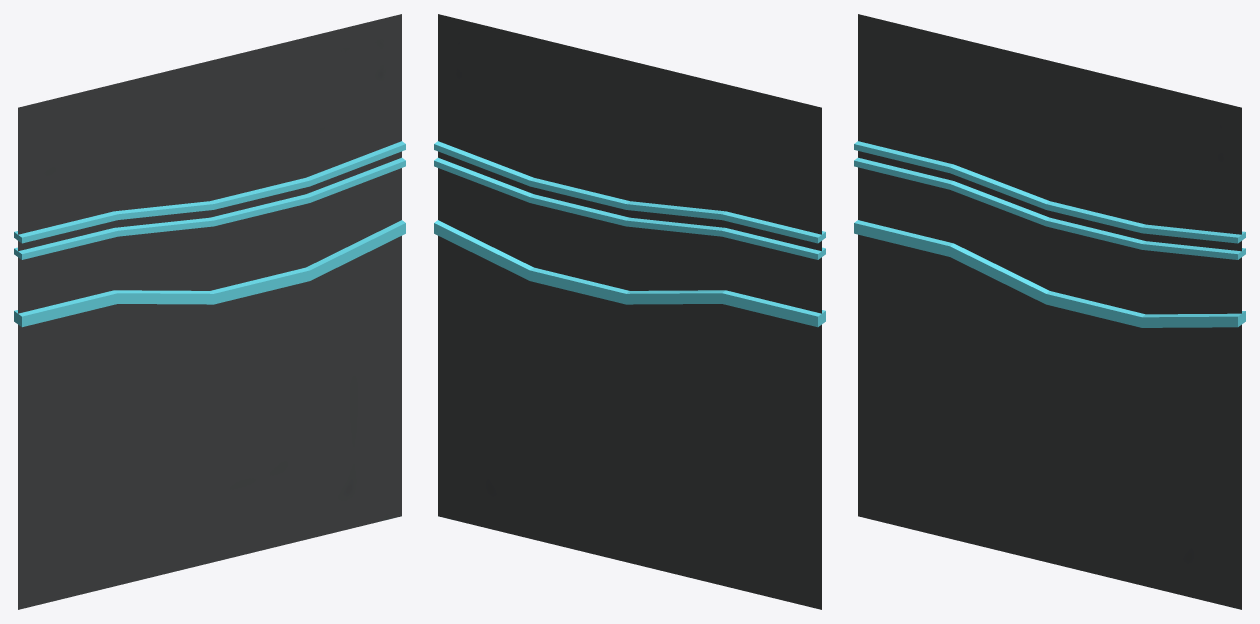
The model's file is LabGameWall.fbx.
The picture shows the model from 3 angles, left to right: view 1: azimuth 30°, elevation 25°; view 2: azimuth 150°, elevation 25°; view 3: azimuth 330°, elevation 25°; orthographic projection.
Visible parts, largest first — view 1: Plane; view 2: Plane; view 3: Plane.
Boxes of the visible parts, bbox=[...] form: Plane: bbox=[14, 14, 405, 609]; Plane: bbox=[434, 14, 825, 609]; Plane: bbox=[854, 14, 1245, 609].
Bounding box in the file's own units: 800 × 1000 × 28.61.
